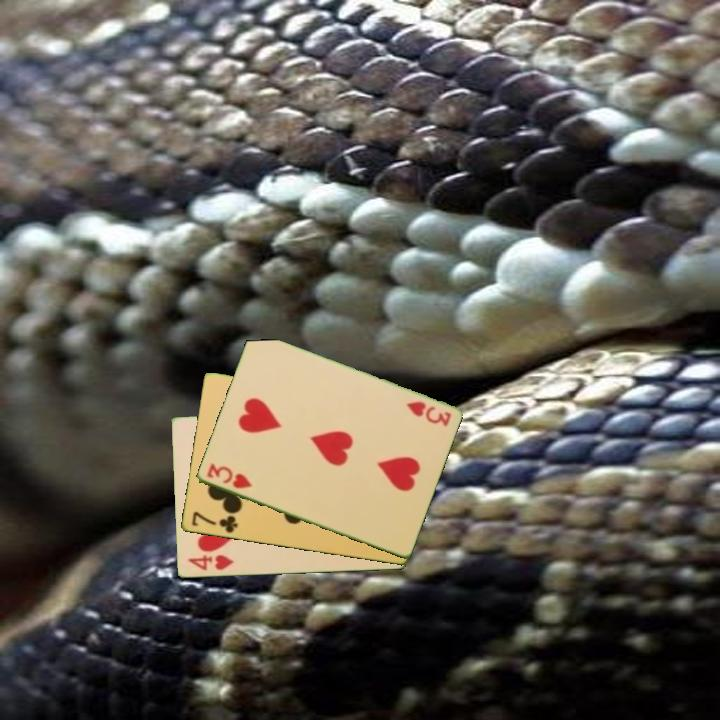3h: (203, 460, 255, 492), (402, 398, 454, 429)
4h: (184, 551, 237, 574)
7c: (188, 508, 240, 536)
